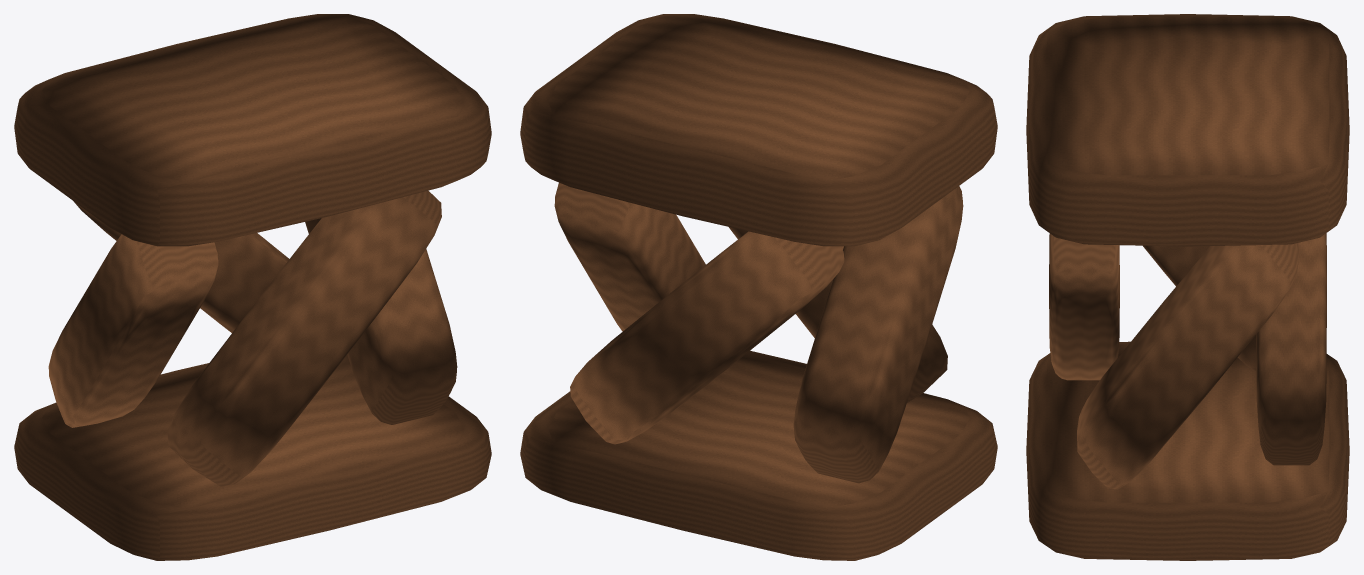
3 views of the same model, side by side, from view 1: azimuth 30°, elevation 25°; view 2: azimuth 150°, elevation 25°; view 3: azimuth 270°, elevation 25° (orthographic).
Visible parts, largest first — view 1: 1 table_top, 2 table_base, 3 front_twist_rib, 5 left_twist_rib, 6 right_twist_rib, 4 back_twist_rib; view 2: 1 table_top, 2 table_base, 5 left_twist_rib, 4 back_twist_rib, 6 right_twist_rib, 3 front_twist_rib; view 3: 1 table_top, 2 table_base, 6 right_twist_rib, 4 back_twist_rib, 3 front_twist_rib, 5 left_twist_rib.
Part boxes in pixels (<box>): 1 table_top: <box>14,14,491,246</box>; 2 table_base: <box>14,355,491,560</box>; 3 front_twist_rib: <box>167,190,441,486</box>; 5 left_twist_rib: <box>48,234,218,427</box>; 6 right_twist_rib: <box>305,218,457,424</box>; 4 back_twist_rib: <box>73,201,289,332</box>; 1 table_top: <box>520,14,997,246</box>; 2 table_base: <box>520,350,997,560</box>; 5 left_twist_rib: <box>793,186,963,483</box>; 4 back_twist_rib: <box>570,231,844,444</box>; 6 right_twist_rib: <box>554,182,705,331</box>; 3 front_twist_rib: <box>729,227,947,402</box>; 1 table_top: <box>1026,14,1349,246</box>; 2 table_base: <box>1026,341,1349,560</box>; 6 right_twist_rib: <box>1077,243,1298,489</box>; 4 back_twist_rib: <box>1256,233,1326,465</box>; 3 front_twist_rib: <box>1049,233,1119,380</box>; 5 left_twist_rib: <box>1143,245,1256,371</box>.
Size of the model in its own units: 1 by 1 by 0.75.
Materials: 1 (1 with a texture image).
